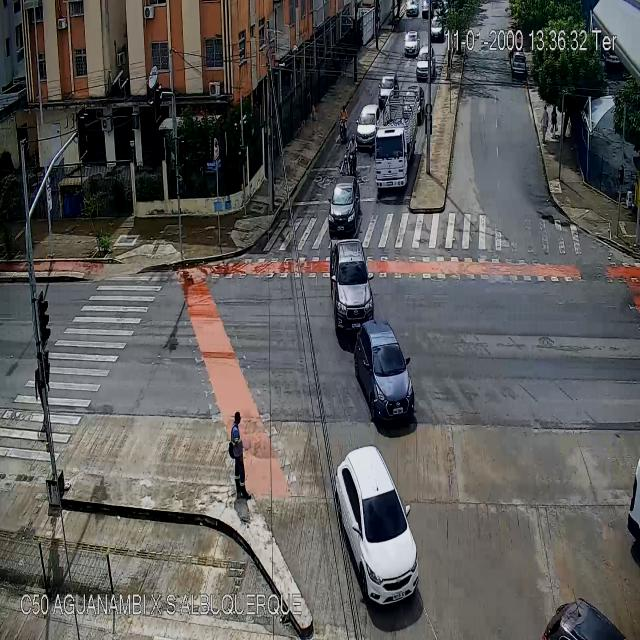Car: (337, 446, 420, 600), (355, 322, 415, 425), (533, 589, 640, 640), (330, 241, 374, 333), (327, 175, 360, 232), (356, 103, 379, 148), (404, 85, 424, 124), (416, 46, 436, 80), (378, 72, 398, 102), (429, 16, 444, 42), (403, 32, 419, 54), (513, 52, 525, 74), (405, 0, 419, 18)
Motorcycle: (347, 133, 357, 174), (338, 105, 348, 144)
Truck: (375, 90, 415, 188)
